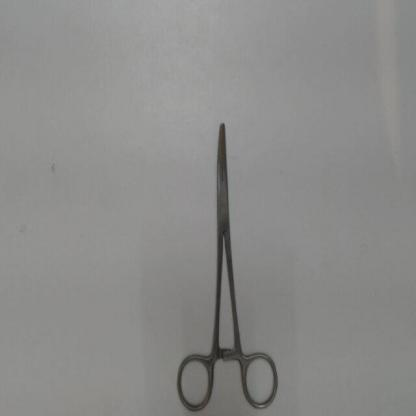Crile Artery Forceps: (172, 106, 286, 414)
